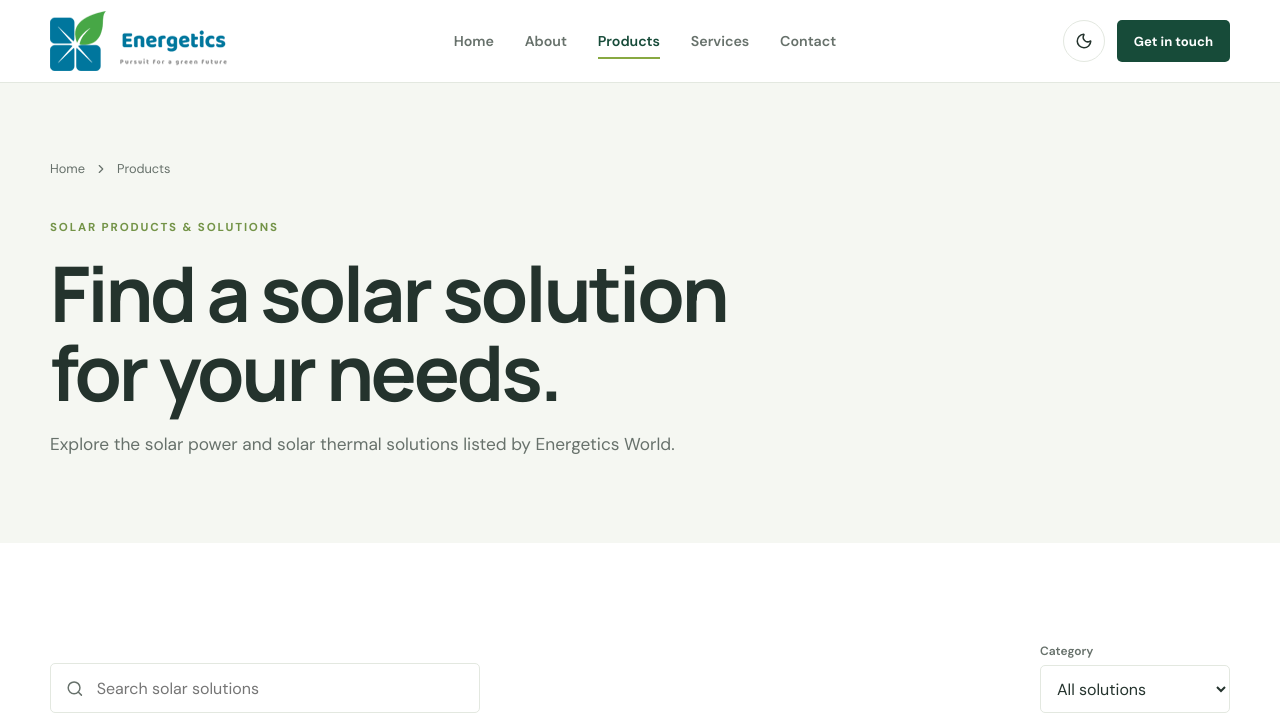
product catalogue › searches products by name and displays an empty state for no matches
The image size is (1280, 720).
Type "water pump" into the search field named "Search products" at point(279, 688), box [95, 677, 464, 700]
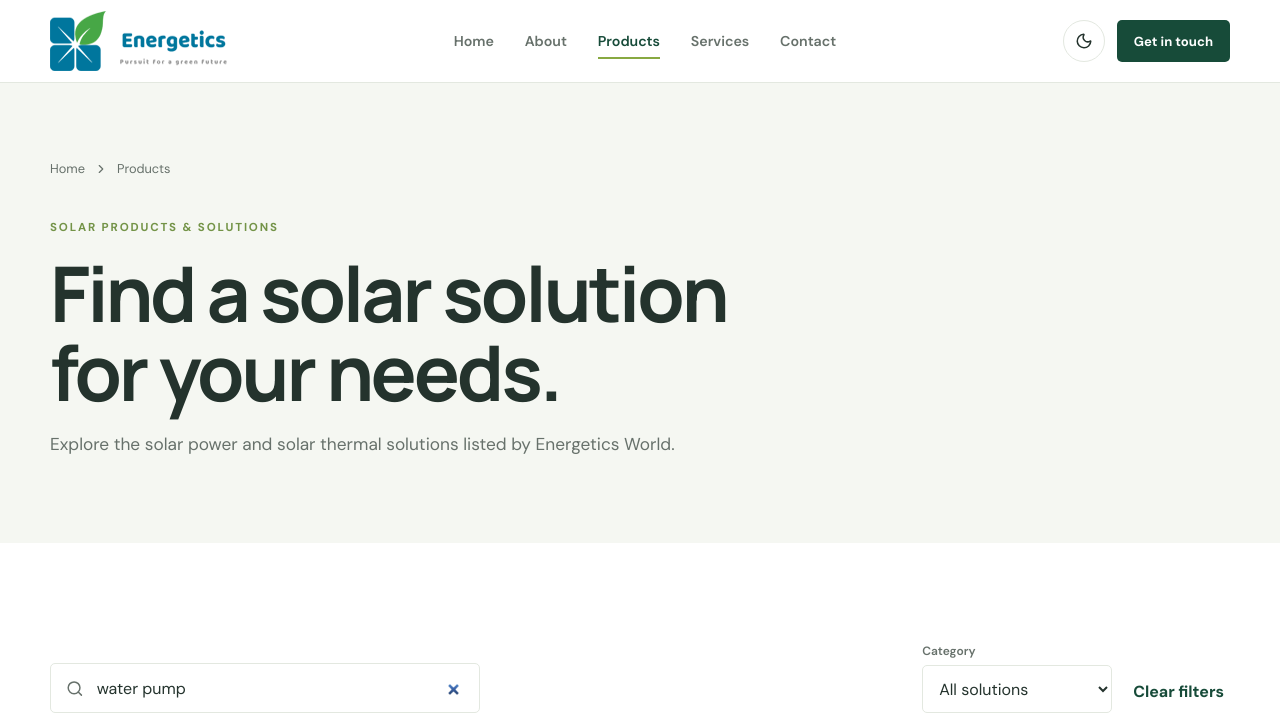
Replace the text in the search field named "Search products" with "no such product" at point(279, 688), box [95, 677, 464, 700]
(page scrolled)
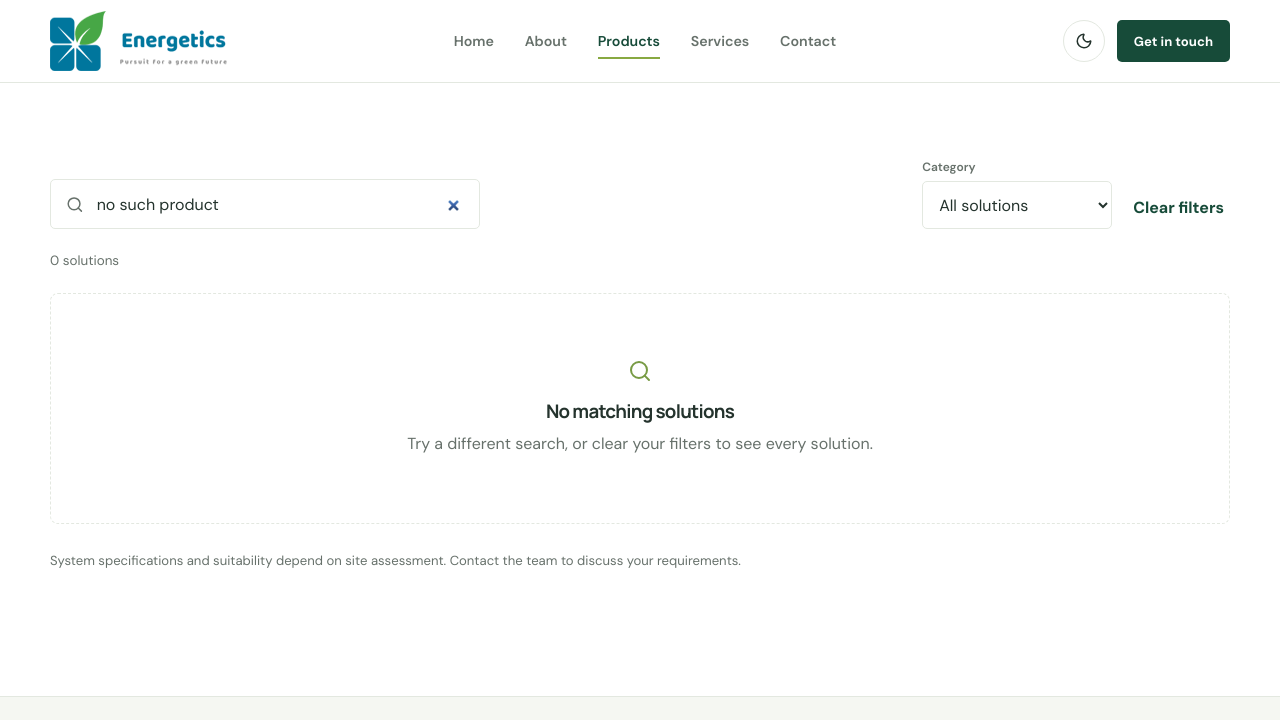
Result: the heading "No matching solutions" is shown at [546, 399, 734, 423]
